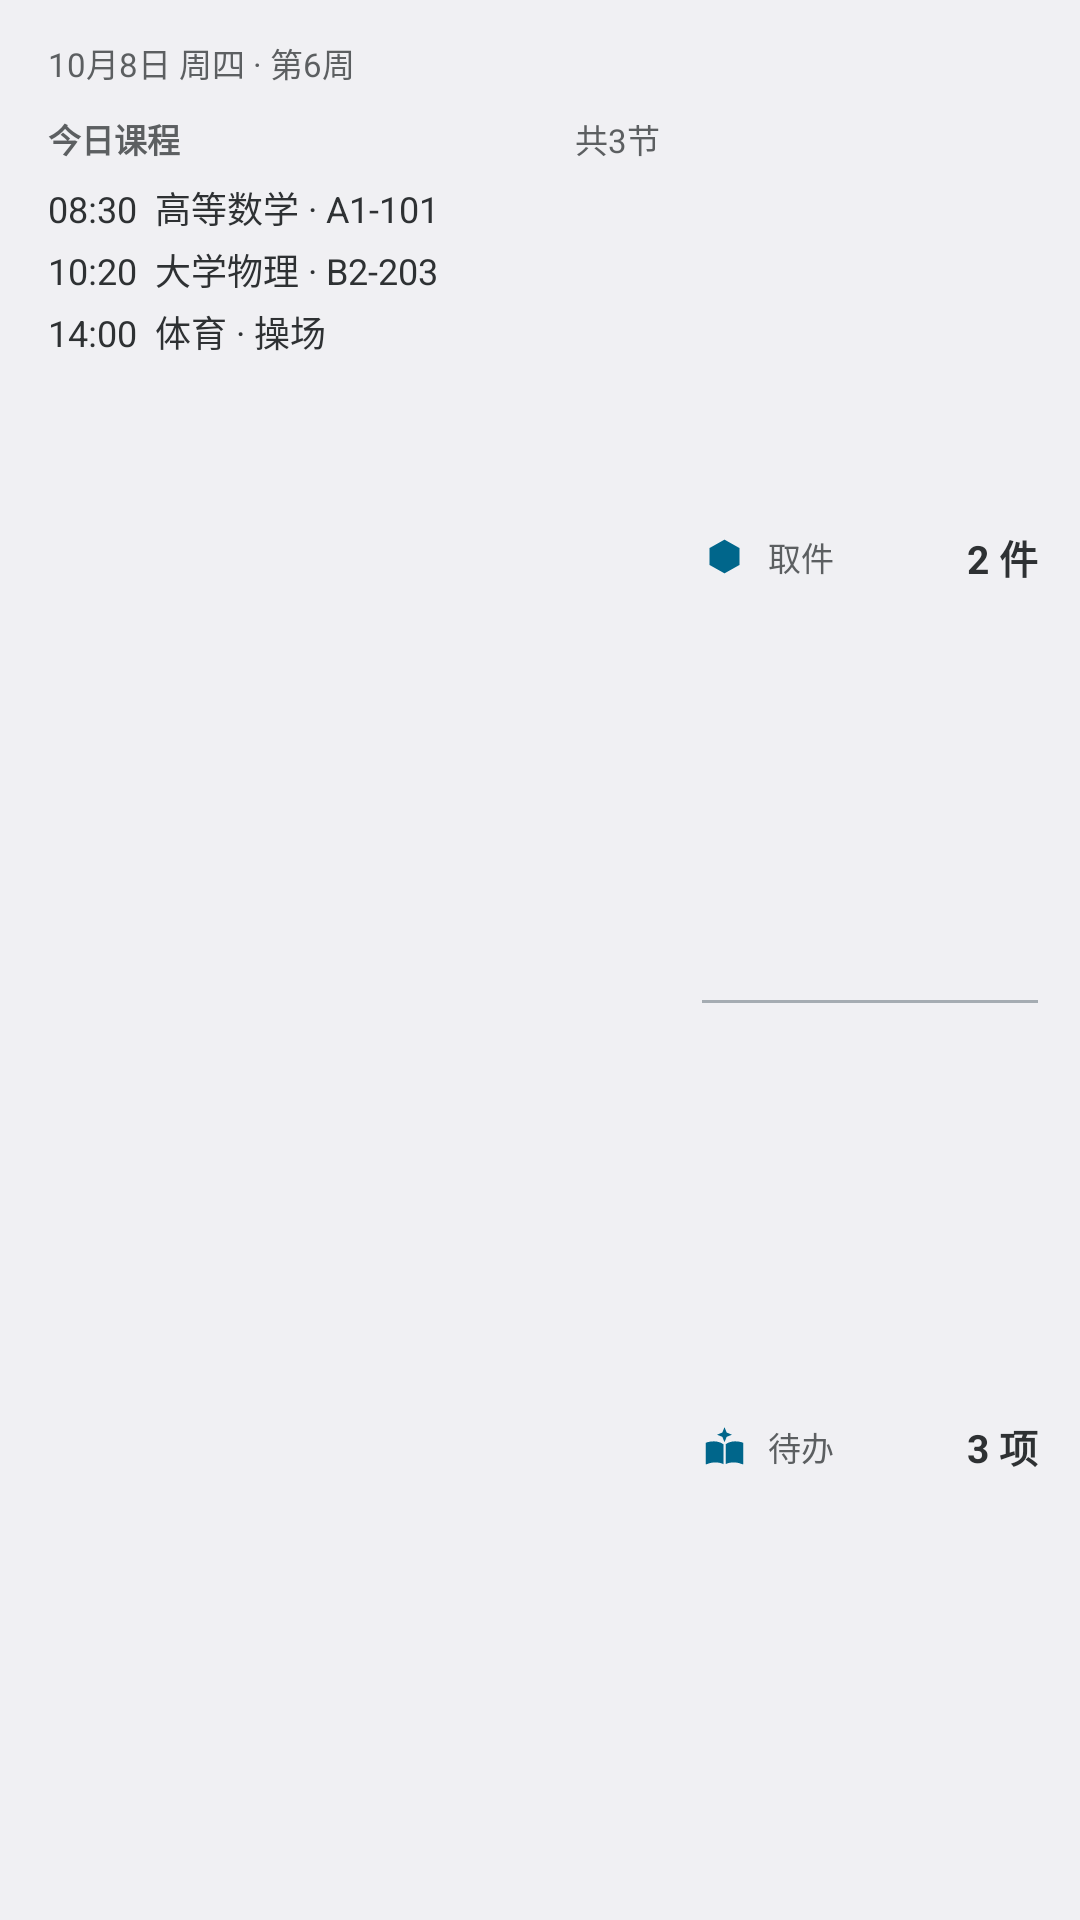

Named icons in this screenshot (1080 × 1920) and their bounding boxes, (x1, y1, x2, y2):
tool homework: (705, 1427, 744, 1465)
